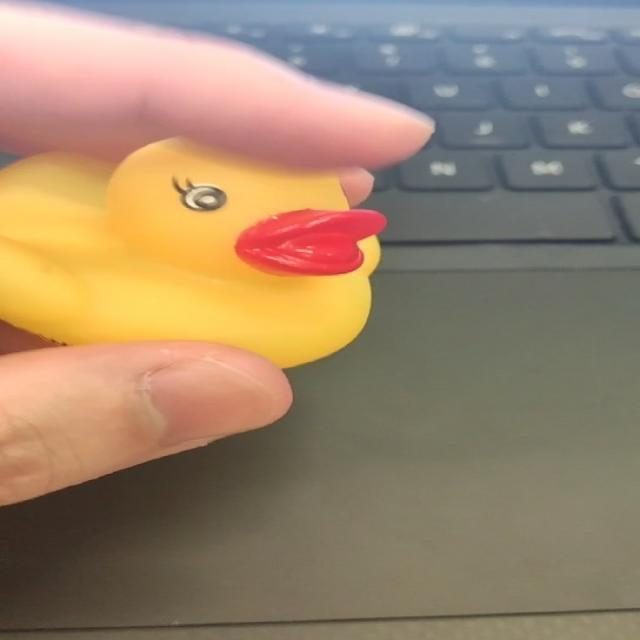rubber-duck: (0, 137, 383, 365)
